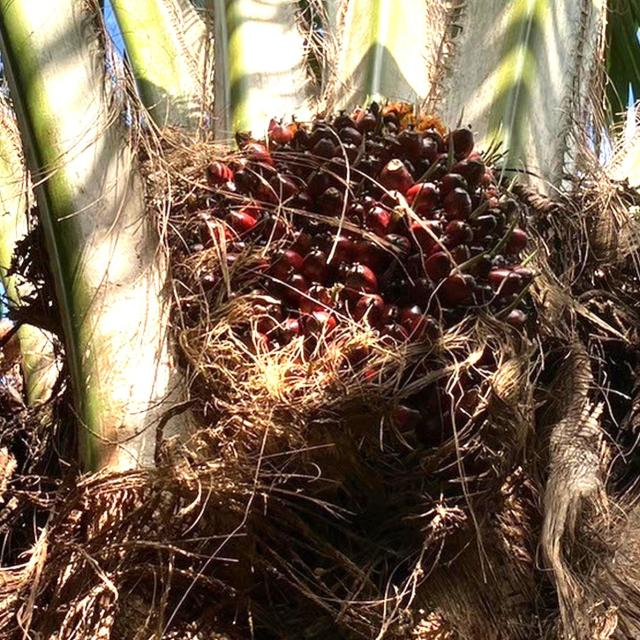ripe: (142, 86, 556, 523)
